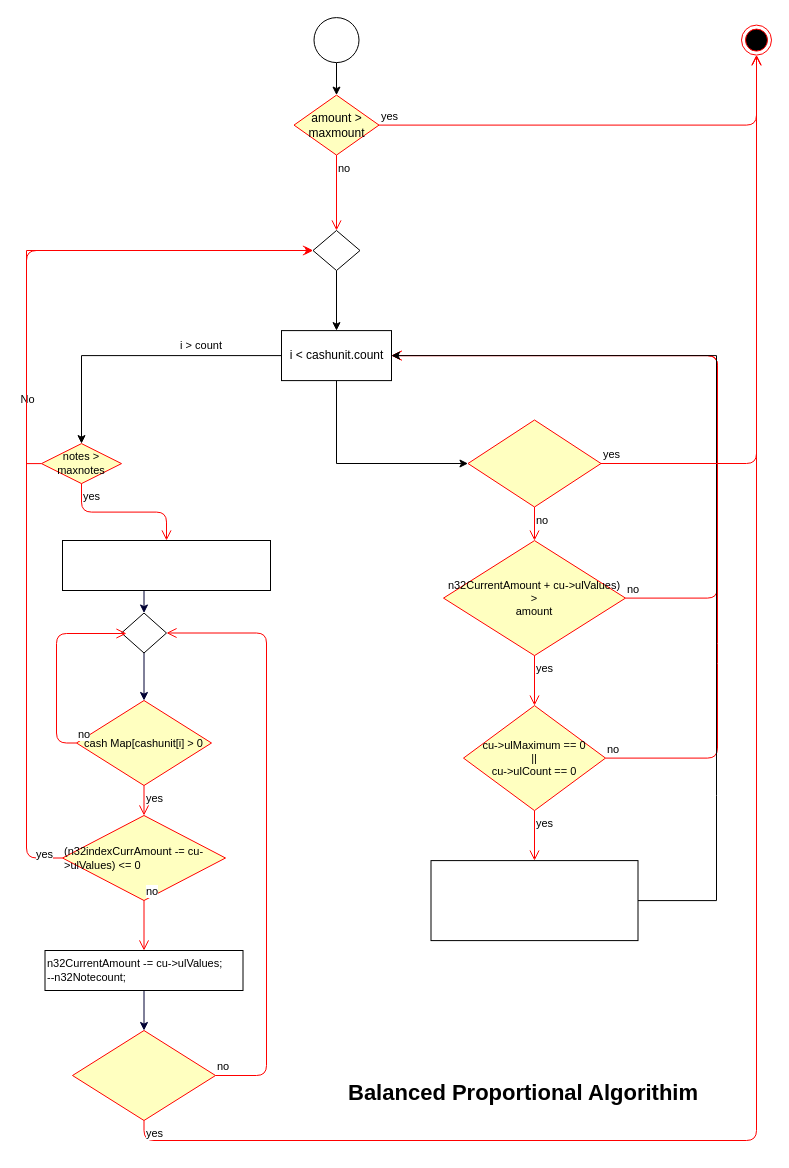
Some shapes in this 789 by 1168 pixel diagram are drawn without their labels. Each missing label, with the centre of its shape:
currentamount == amount: the point at 534,463
get higher denomination from the cashunit. n32indexCurrAmount = cu->ulValues: the point at 166,565
n32CurrentAmount += cu->ulValues; ++n32Notecount;: the point at 534,900
n32Notecount > maxnotes: the point at 144,1075
